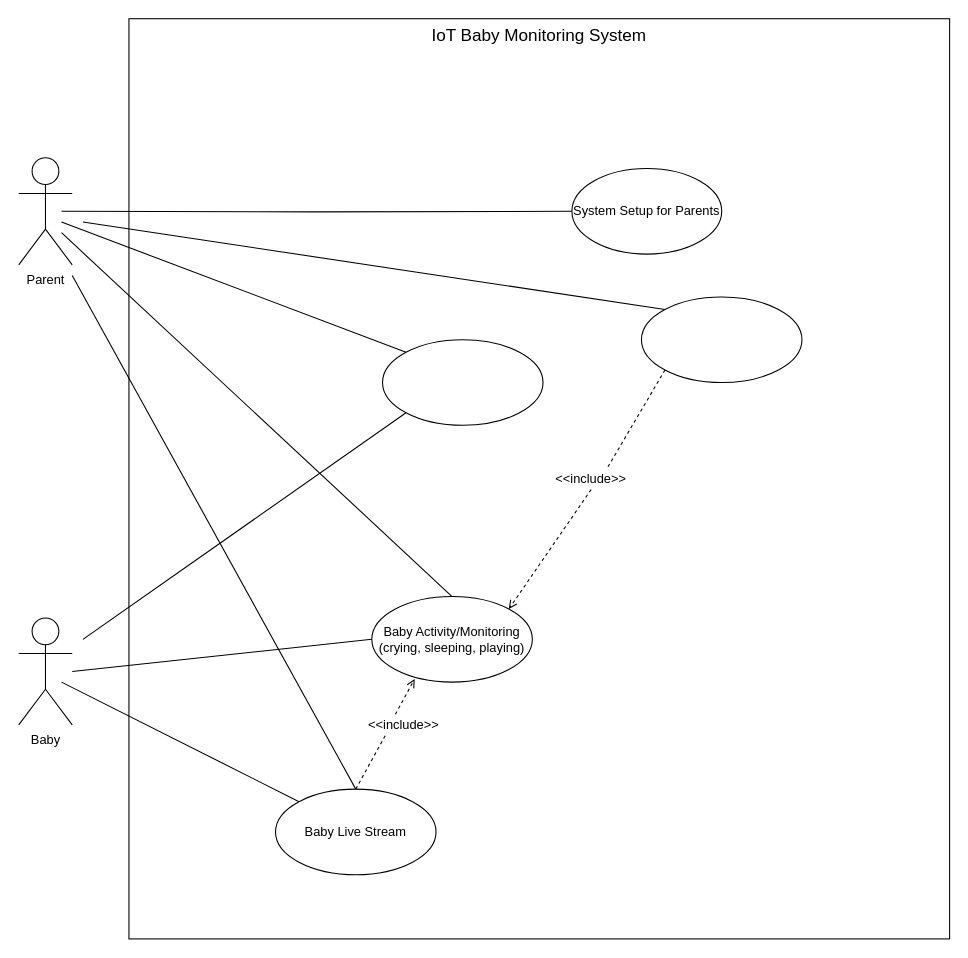
The diagram is 968 pixels wide and 958 high, and some of its shapes have lost their labels. Each missing label, with the centre of its shape:
"Baby Data Analysis" belongs at point 721,339.
"General Calibration" belongs at point 462,382.
